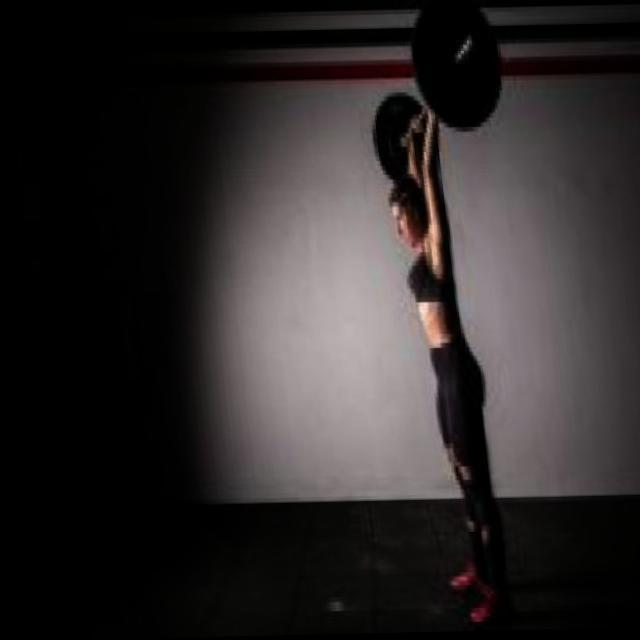barbell: (403, 1, 521, 139)
